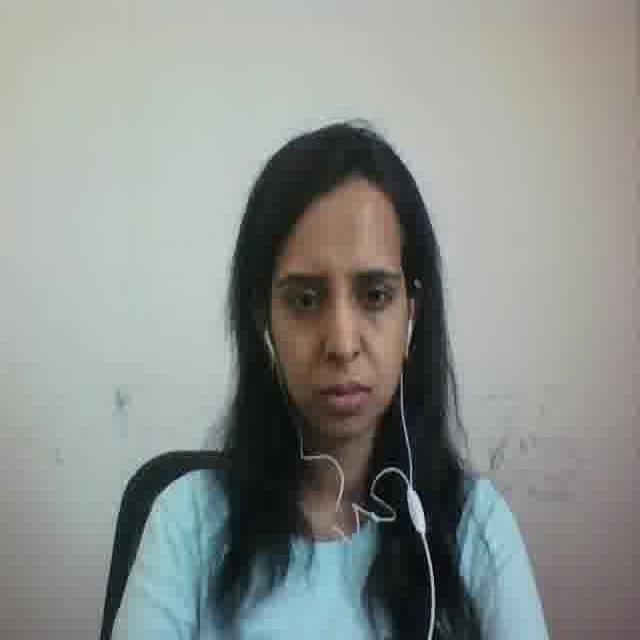Frustration: (267, 196, 404, 451)
